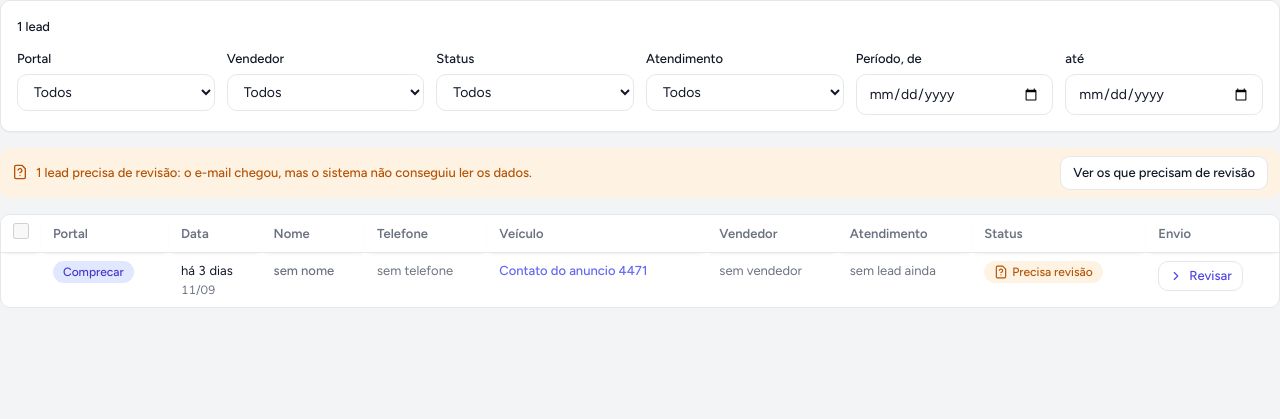
tela de leads: a fila de revisao mora aqui › com filtro de vendedor a linha some, mas o aviso continua contando
Expected: the table is shown, [1,214,1279,306]
Select "Beatryz" in the dropdown labelled "Vendedor" at (326,92), box [227,74,424,111]
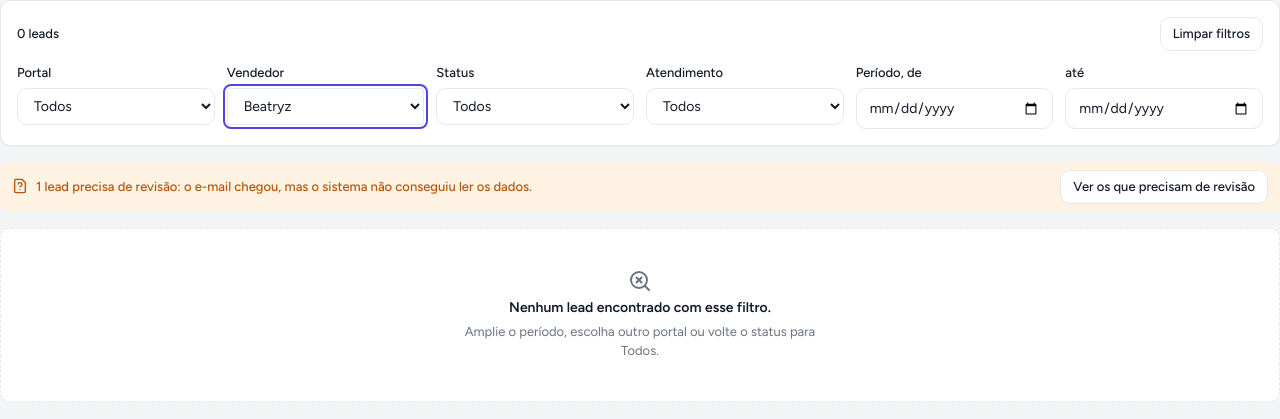
Expected: the text "1 lead precisa de revis" is shown, [36,179,532,194]
Expected: the text "Contato do anuncio 4471" is gone
